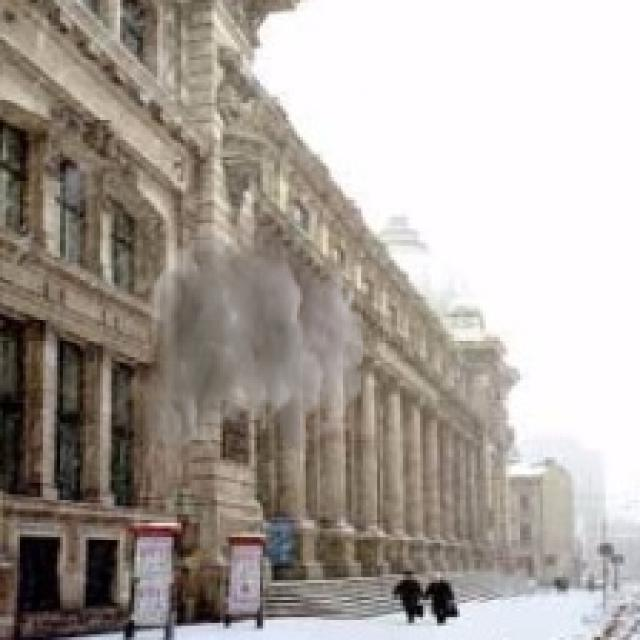Smoke: (140, 197, 366, 460)
